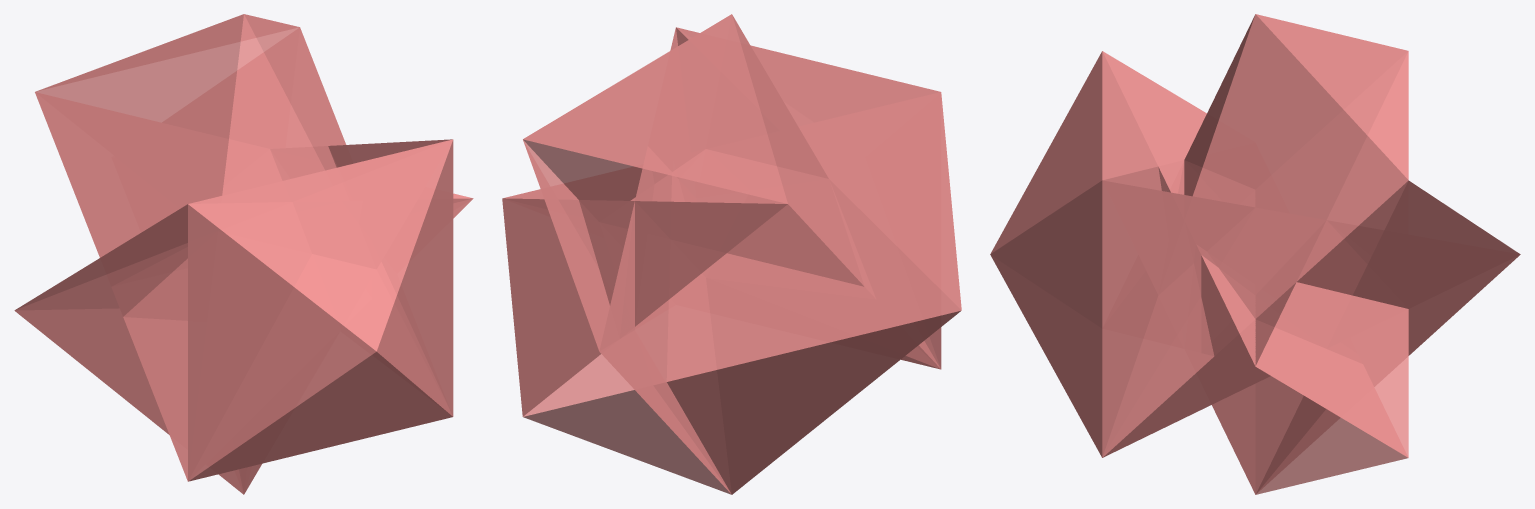
Rendered from BiscribedTetrakisHexahedron.obj.
3 renders of one model, left to right at view 1: azimuth 30°, elevation 25°; view 2: azimuth 150°, elevation 25°; view 3: azimuth 270°, elevation 25°, orthographic.
Bounding box in the file's own units: 2 × 2 × 2.
